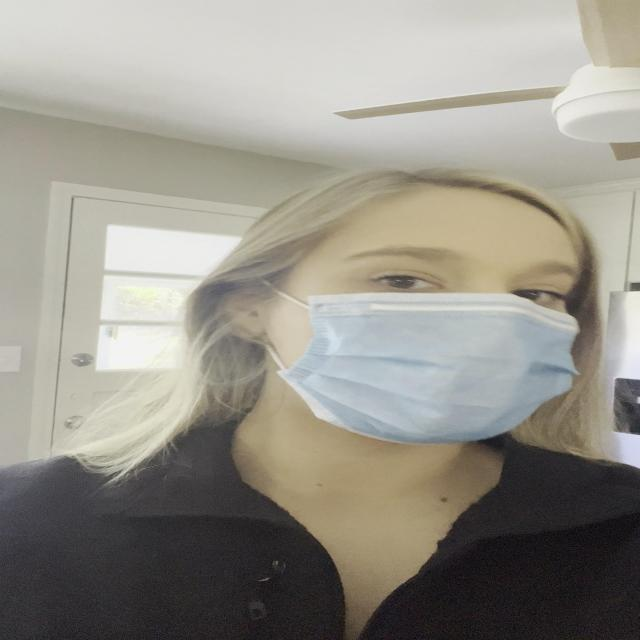no-helmet: (167, 183, 621, 457)
